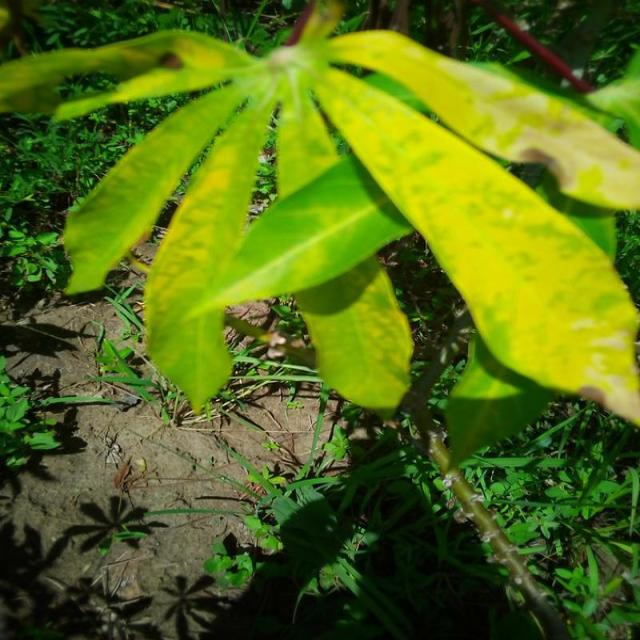cassava leaf: (1, 3, 638, 444)
